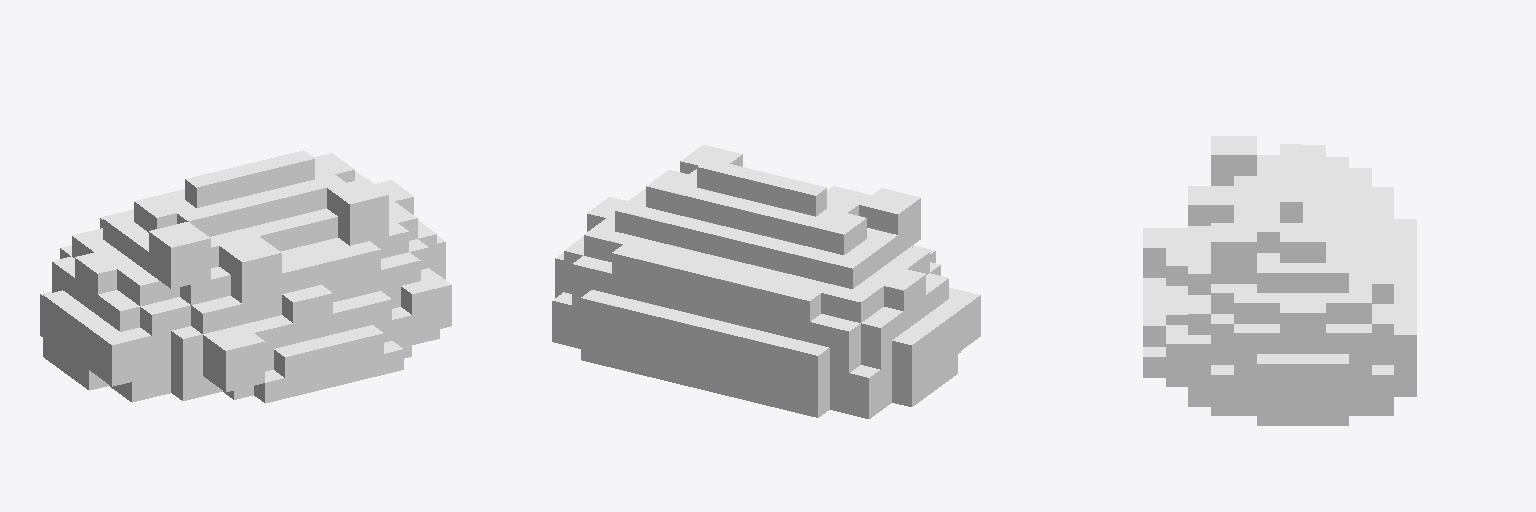
Rendered from BushRedFruit.obj.
3 views of the same model, side by side, from view 1: azimuth 30°, elevation 25°; view 2: azimuth 150°, elevation 25°; view 3: azimuth 270°, elevation 25° (orthographic).
Size of the model in its own units: 18 by 8 by 12.